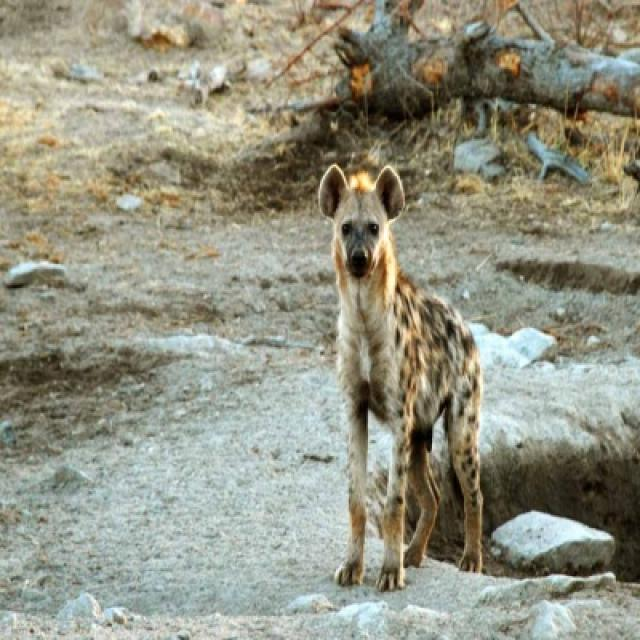hyena: (315, 158, 486, 595)
